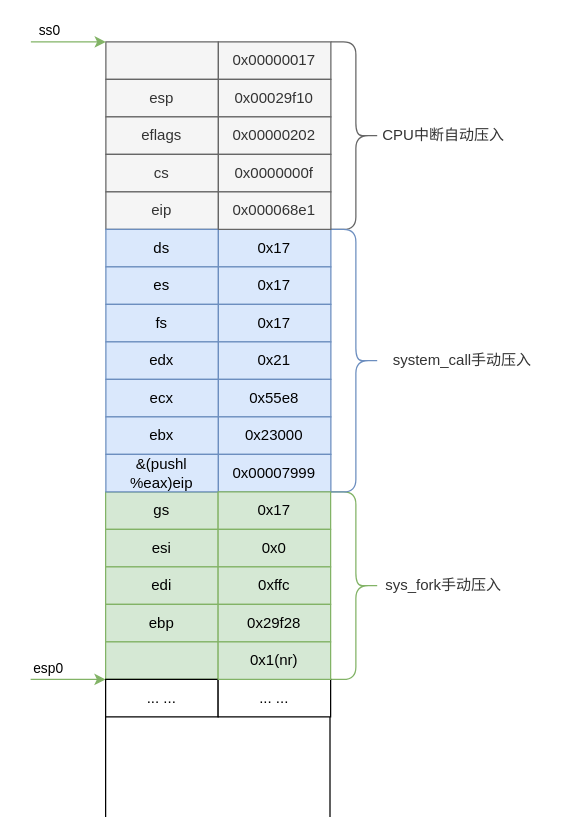
The diagram is 565 pixels wide and 840 high, and some of its shapes have lost their labels. Each missing label, with the centre of its shape:
eax: pixel 161 660
ss: pixel 161 60
